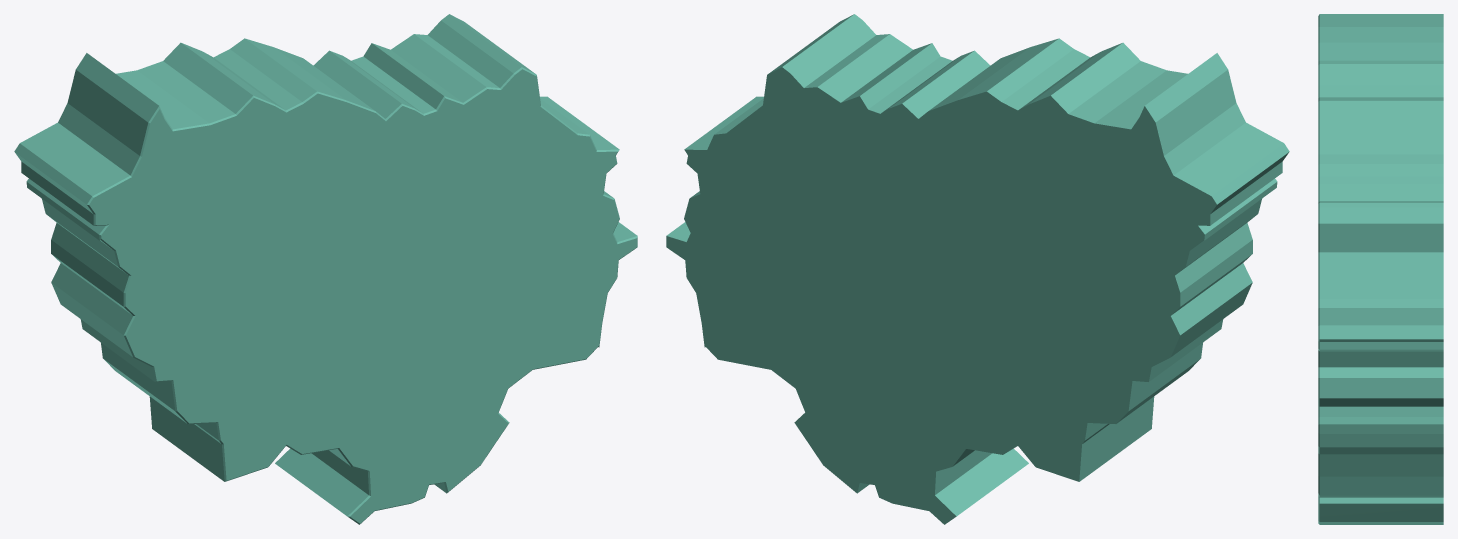
The model's file is IleDeFrance.glb.
The picture shows the model from 3 angles, left to right: view 1: azimuth 30°, elevation 25°; view 2: azimuth 150°, elevation 25°; view 3: azimuth 270°, elevation 25°; orthographic projection. The views are drawn at different scales.
Parts seen in each view (by area): view 1: Île-de-France; view 2: Île-de-France; view 3: Île-de-France.
Part boxes in pixels (<box>): Île-de-France: <box>14,14,637,524</box>; Île-de-France: <box>666,14,1289,524</box>; Île-de-France: <box>1318,14,1443,524</box>.
Size of the model in its own units: 0.5567 by 0.452 by 0.1283.
